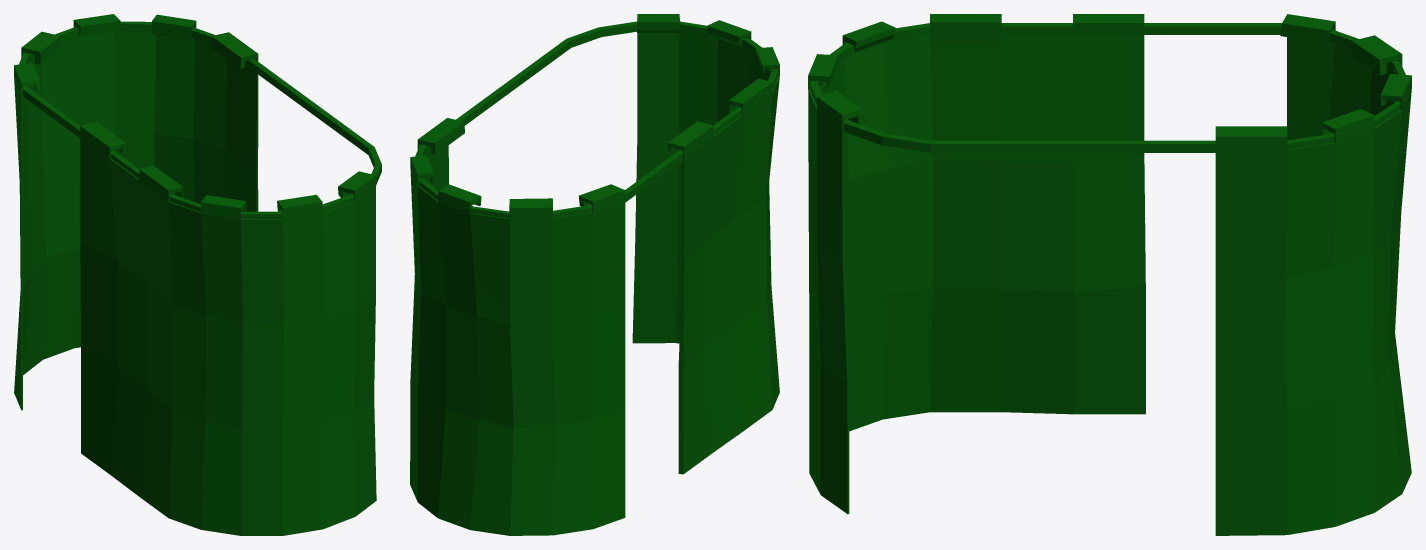
File: Curtain.FBX
The picture shows the model from 3 angles, left to right: view 1: azimuth 30°, elevation 25°; view 2: azimuth 150°, elevation 25°; view 3: azimuth 270°, elevation 25°; orthographic projection. The views are drawn at different scales.
Parts seen in each view (by area): view 1: curtain; view 2: curtain; view 3: curtain.
Part boxes in pixels (box(x1,y1,x2,y2)): curtain: box(14, 14, 381, 535); curtain: box(410, 14, 779, 535); curtain: box(808, 14, 1411, 535).
Size of the model in its own units: 1.96 by 2.91 by 4.01.
